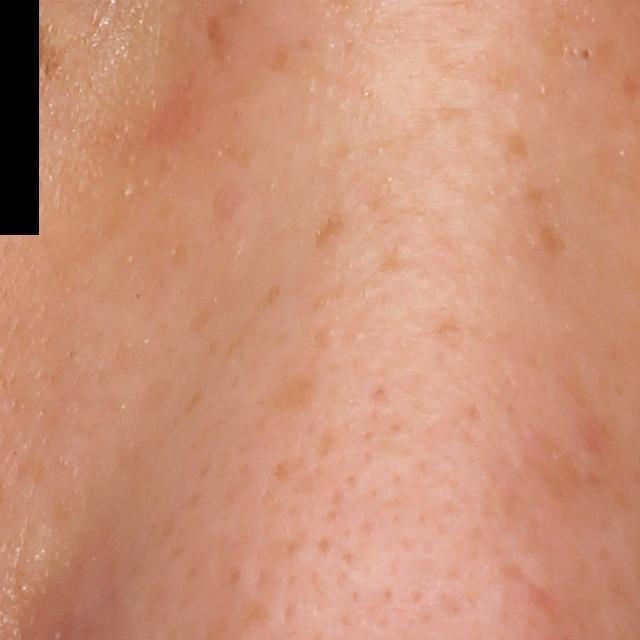comedo: (572, 41, 598, 71)
melasma: (554, 360, 625, 461), (261, 360, 323, 424), (203, 5, 238, 62), (494, 127, 539, 171), (264, 35, 300, 80), (311, 209, 350, 248), (533, 222, 570, 261), (379, 240, 408, 279)
